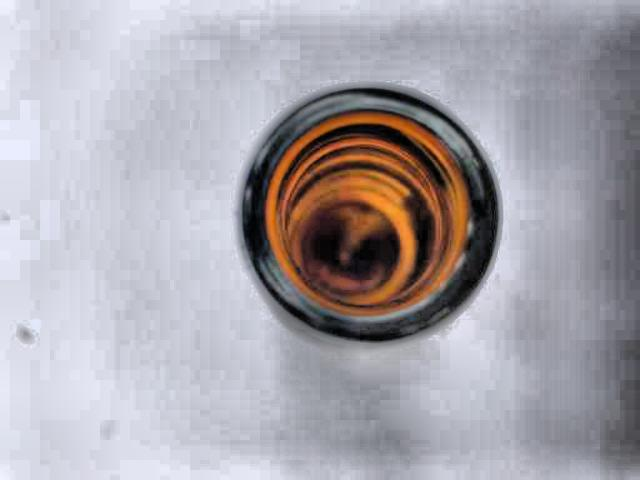Almennt: (197, 55, 499, 356)
